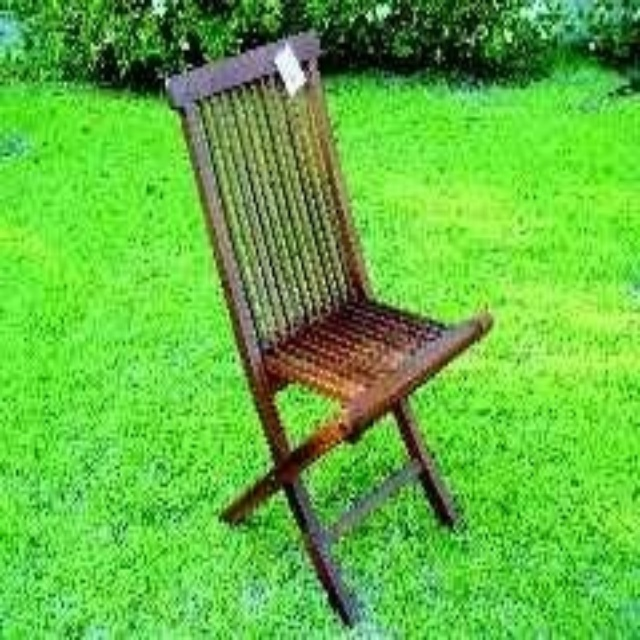obstacle: (168, 32, 491, 622)
